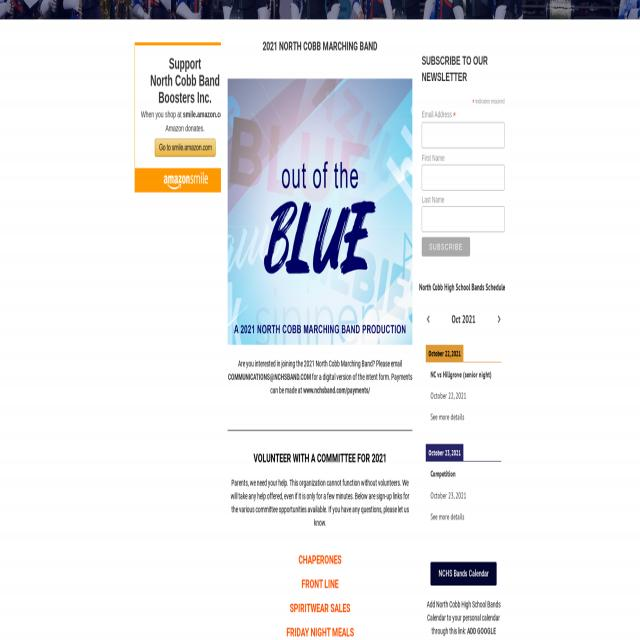button: (228, 78, 412, 345), (431, 562, 496, 585), (155, 138, 216, 158), (422, 236, 470, 256), (419, 312, 437, 326), (490, 312, 508, 326)
field: (422, 122, 504, 148), (422, 164, 504, 190), (422, 206, 504, 232)
